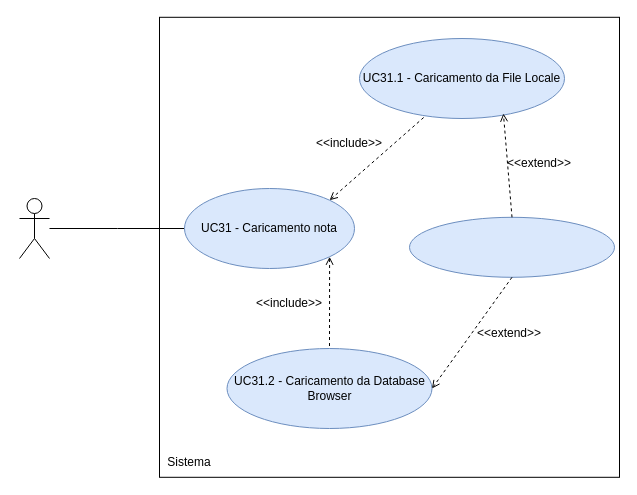
This 637x495 diagram has some shape labels left out. Each missing label, with the centre of its shape:
UC31.3 - Gestione errore di caricamento: pixel 511 246
Utente: pixel 34 228
